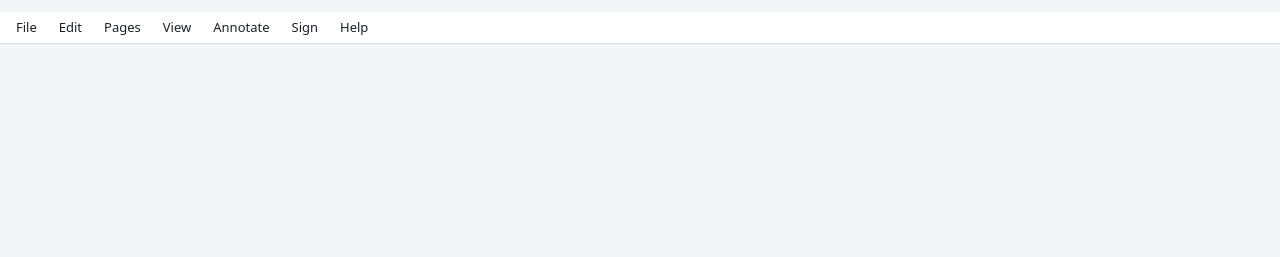
Test: MenuBar › opens File on click and disables document-only actions with no document open
Click the menu item "File" at [26, 28], box [6,14,47,40]
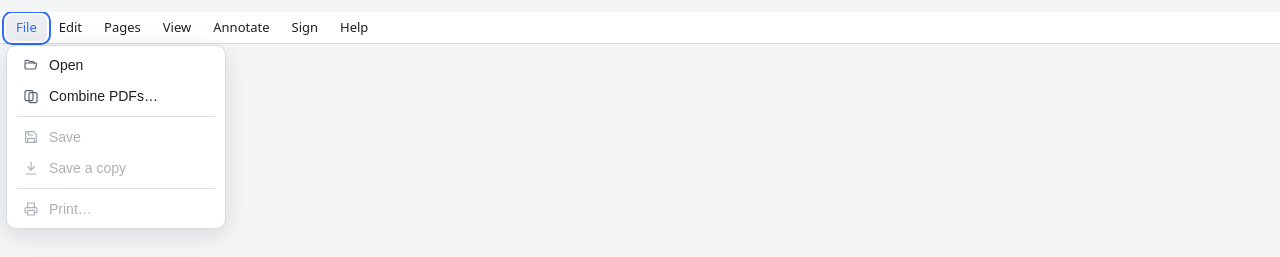
expect the menu item "Open" is enabled: met, box [11,50,221,80]
expect the menu item "Save" is disabled: met, box [11,122,221,152]
expect the menu item "Save a copy" is disabled: met, box [11,152,221,182]
